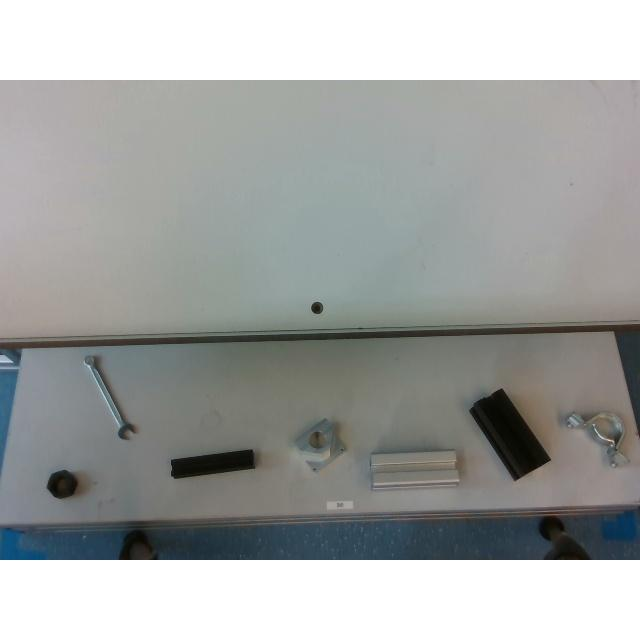F20_20_B: (170, 449, 254, 478)
Housing: (564, 408, 628, 468)
M20: (46, 470, 78, 498)
S40_40_B: (470, 388, 550, 480)
S40_40_G: (370, 450, 458, 490)
